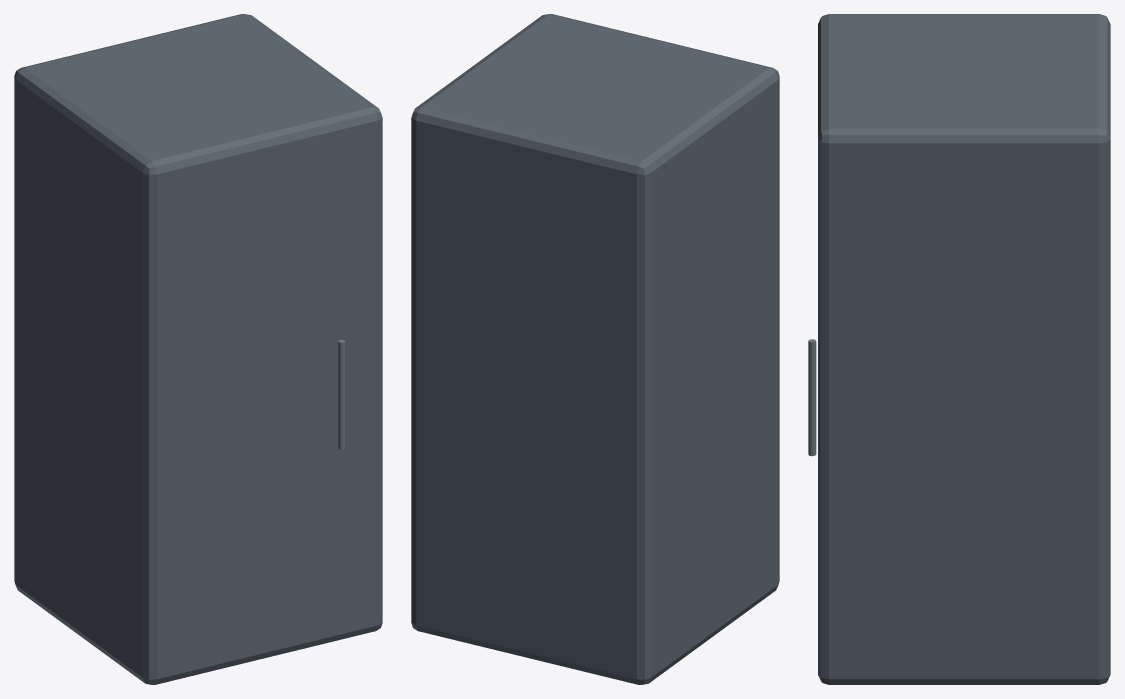
Rendered from ai.phone-booth.glb.
3 views of the same model, side by side, from view 1: azimuth 30°, elevation 25°; view 2: azimuth 150°, elevation 25°; view 3: azimuth 270°, elevation 25° (orthographic). The views are drawn at different scales.
Parts seen in each view (by area): view 1: Hero_Asset; view 2: Hero_Asset; view 3: Hero_Asset.
Part boxes in pixels (<box>): Hero_Asset: <box>14,14,382,684</box>; Hero_Asset: <box>411,14,779,684</box>; Hero_Asset: <box>808,14,1110,684</box>.
Size of the model in its own units: 1.05 by 2.2 by 1.08.
